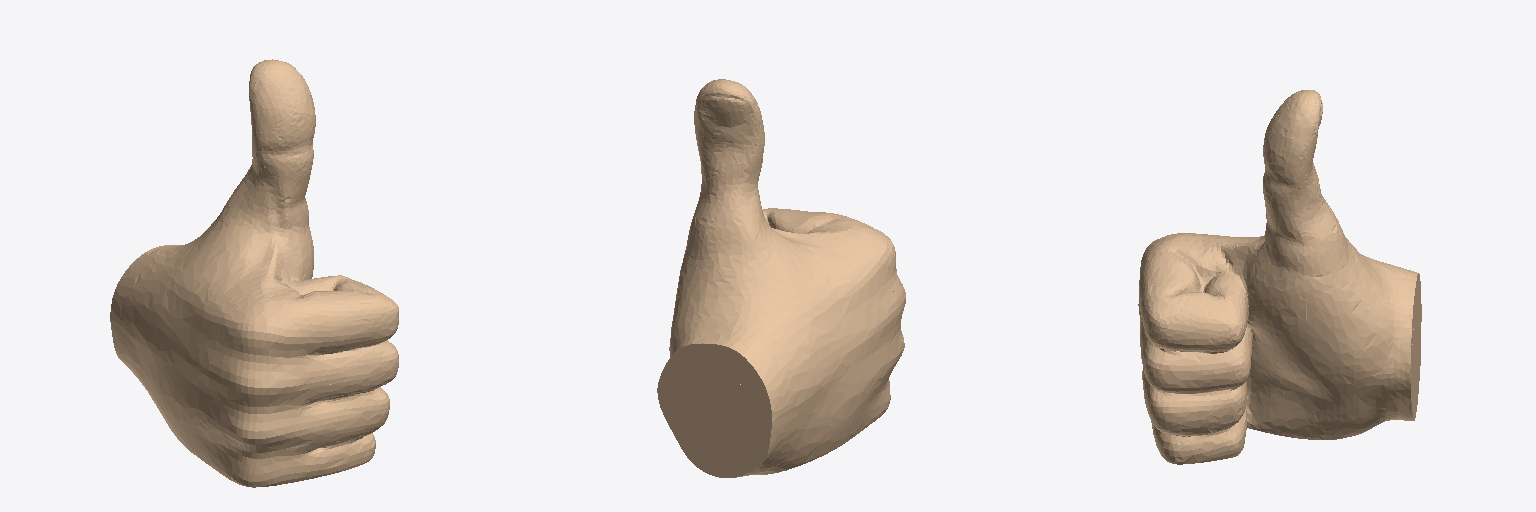
3 views of the same model, side by side, from view 1: azimuth 30°, elevation 25°; view 2: azimuth 150°, elevation 25°; view 3: azimuth 270°, elevation 25° (orthographic).
Visible parts, largest first — view 1: obj_0_skin; view 2: obj_0_skin; view 3: obj_0_skin.
Boxes of the visible parts, x1=… form: obj_0_skin: x1=110, y1=59, x2=398, y2=487; obj_0_skin: x1=657, y1=79, x2=905, y2=477; obj_0_skin: x1=1138, y1=90, x2=1421, y2=464.
Size of the model in its own units: 2.67 by 5.3 by 3.84.
Materials: 1 (1 with a texture image).